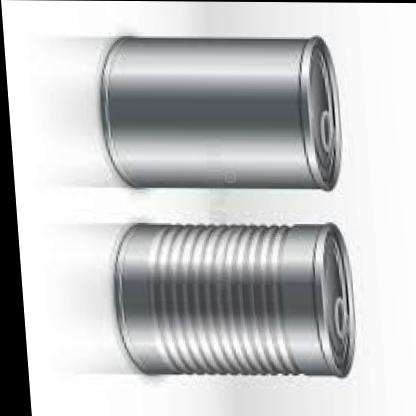Metal: (75, 25, 408, 376)
